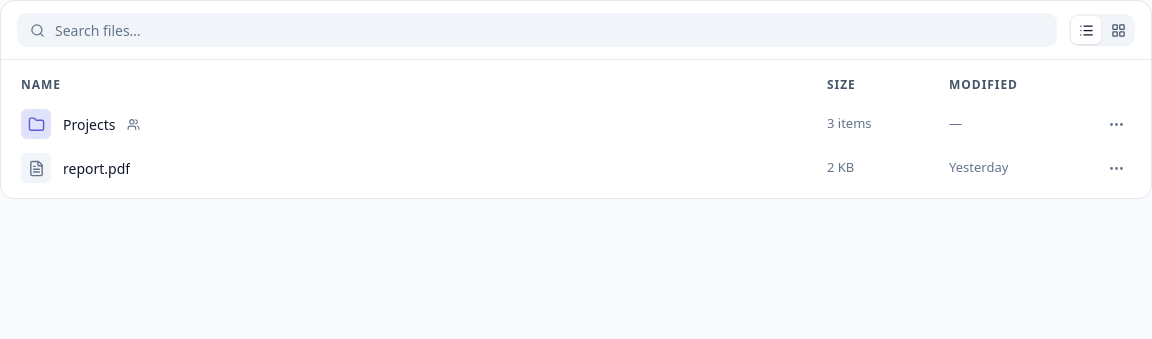
Test case: FileManager › uses the default Dropdown actions when no custom action builder is supplied
This screenshot has width=1152, height=339.
Click the 1st button with class "lyra-dropdown__trigger" at (1116, 124), box [1108, 116, 1124, 132]
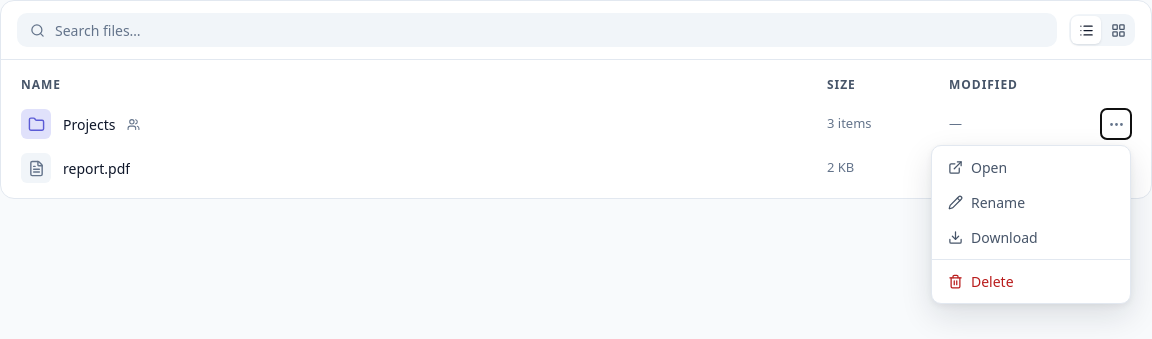
Result: the menu item "Open" is shown at [936, 150, 1126, 185]
